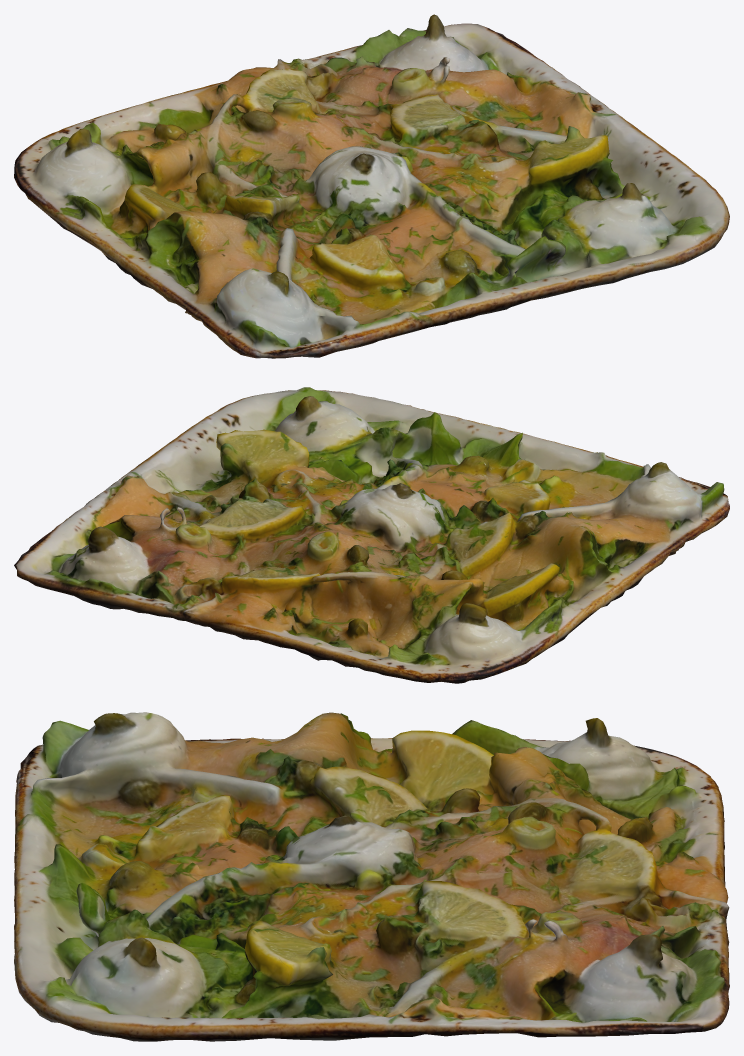
The model's file is smokedSalmonSalad_1752072081412.glb.
3 views of the same model, one above another, from view 1: azimuth 30°, elevation 25°; view 2: azimuth 150°, elevation 25°; view 3: azimuth 270°, elevation 25° (orthographic). The views are drawn at different scales.
Parts seen in each view (by area): view 1: 3DModel_Custom; view 2: 3DModel_Custom; view 3: 3DModel_Custom.
Boxes of the visible parts, <box> form: 3DModel_Custom: <box>14,14,729,358</box>; 3DModel_Custom: <box>14,387,729,683</box>; 3DModel_Custom: <box>14,712,729,1041</box>.
Size of the model in its own units: 0.2284 by 0.0304 by 0.2268.
1 material, 1 textured.
